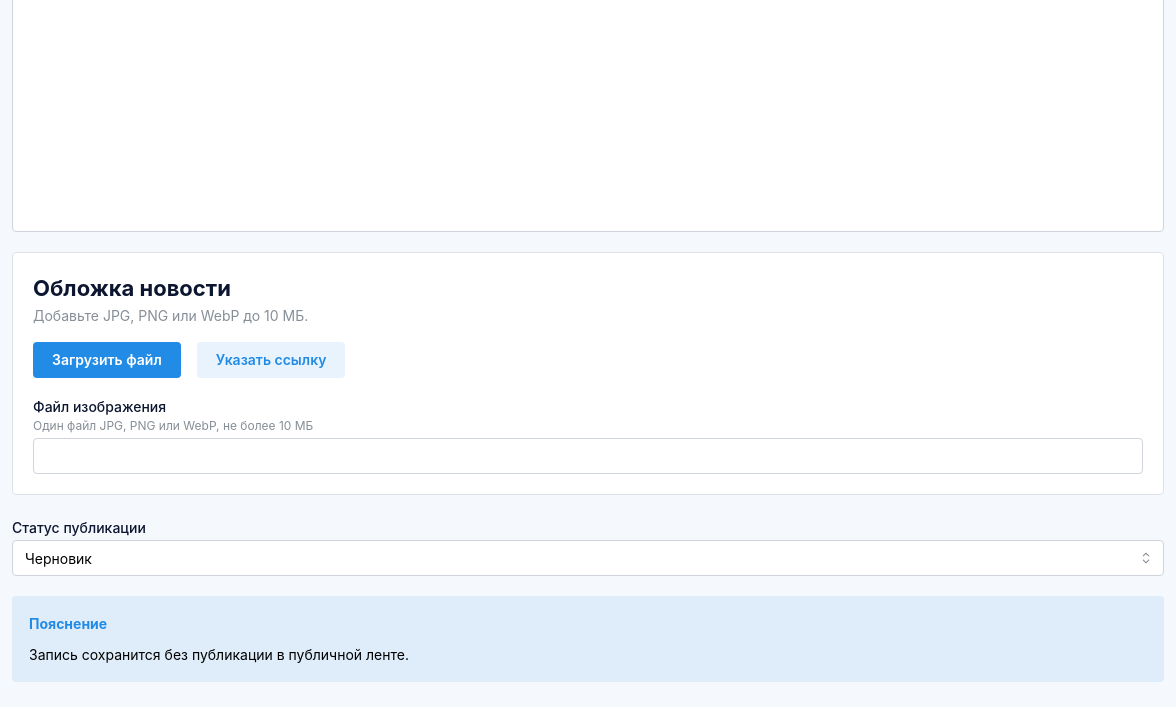
AdminNewsForm cover image › switches between file upload and URL input
(page scrolled)
expect the button "Загрузить файл" is shown: met, box [33,342,181,378]
expect the button named "Файл изображения" is shown: met, box [33,438,1143,474]
Click the button "Указать ссылку" at (271, 360), box [197,342,345,378]
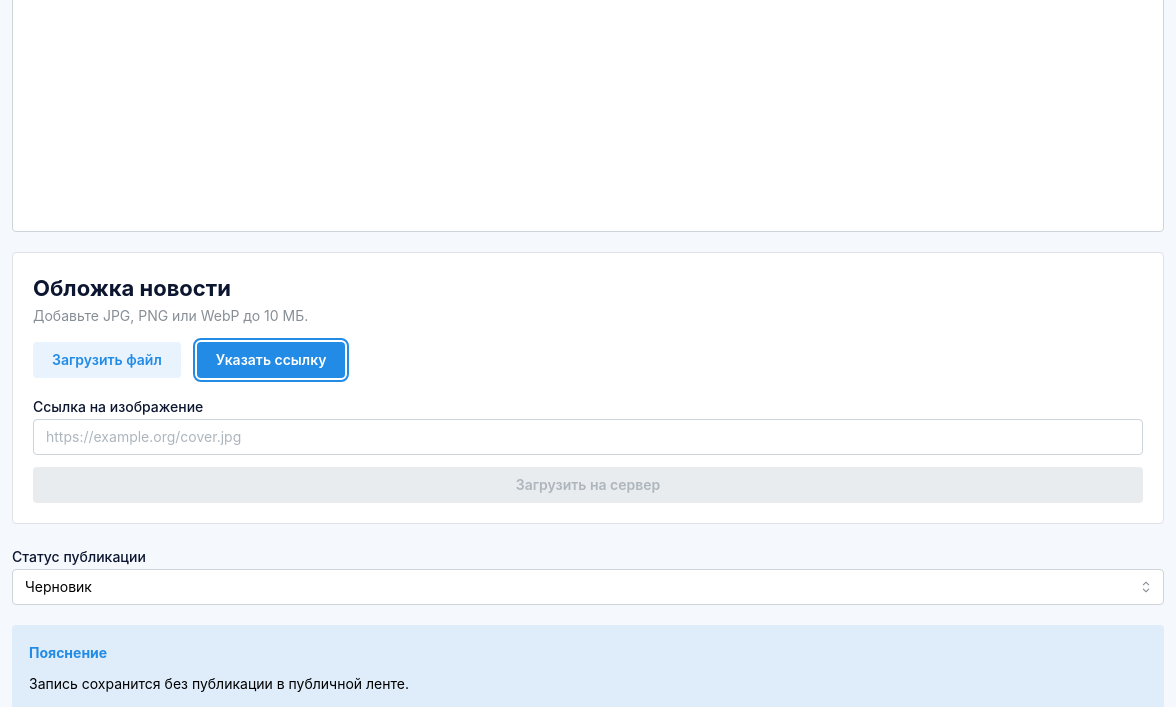
expect the field labelled "Ссылка на изображение" is shown: met
expect the label labelled "Файл изображения" is gone: met
Type "https://example.com/cover.png" into the field labelled "Ссылка на изображение" at (588, 437), box [33,419,1143,455]
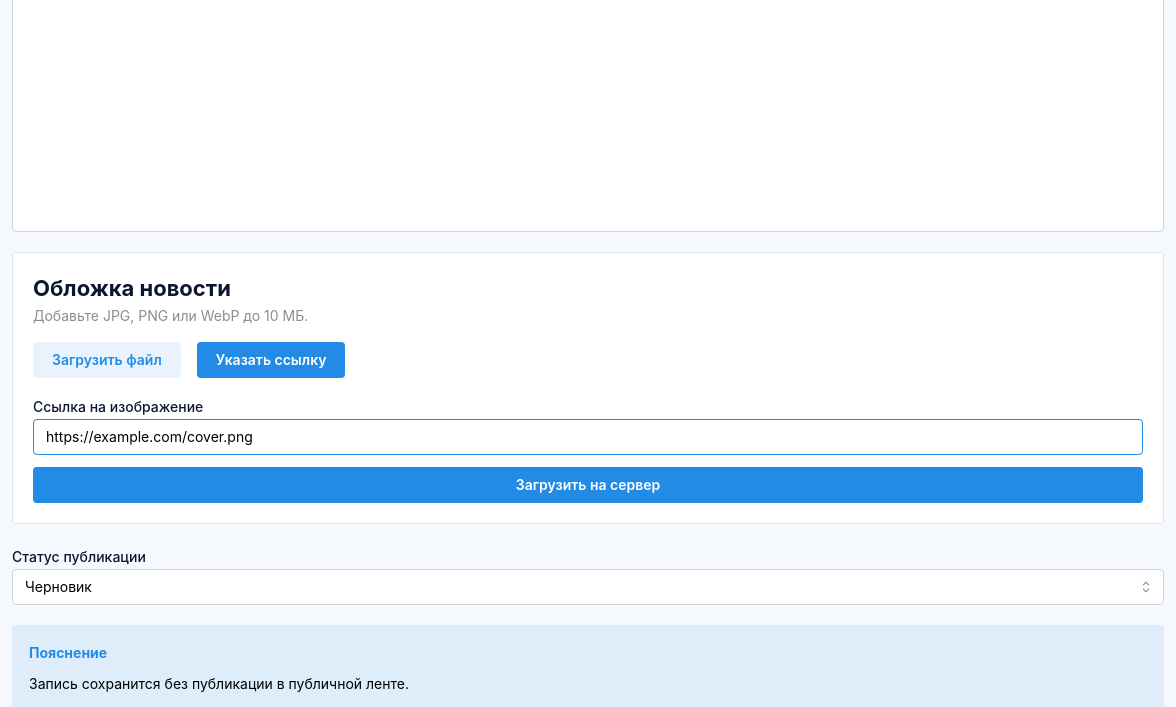
Click the button "Загрузить файл" at (107, 360), box [33,342,181,378]
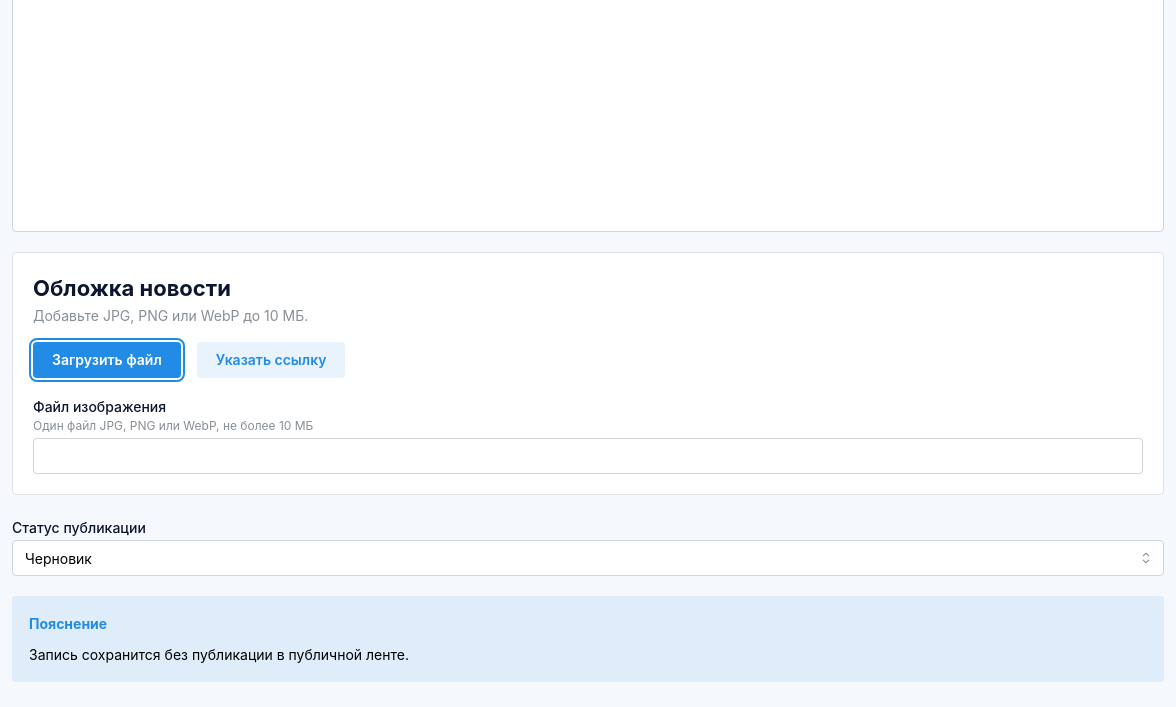
expect the button named "Файл изображения" is shown: met, box [33,438,1143,474]
expect the label labelled "Ссылка на изображение" is gone: met
